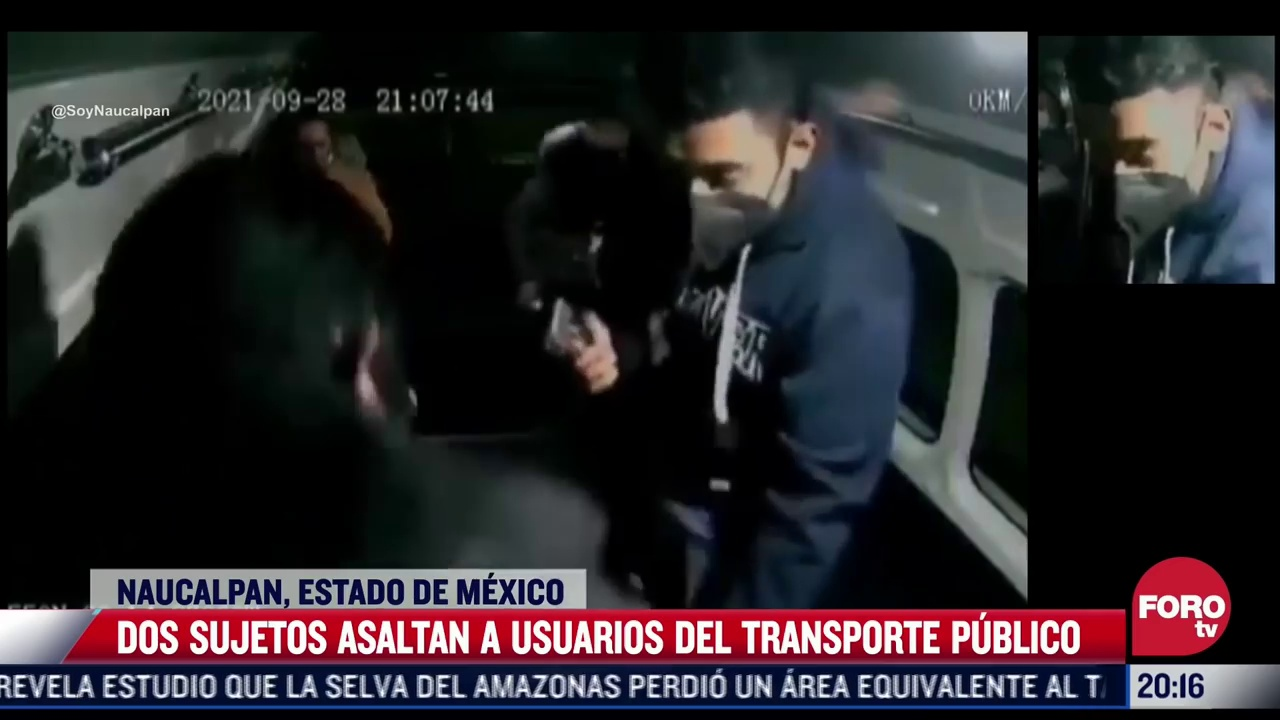pistol: (541, 297, 598, 357)
